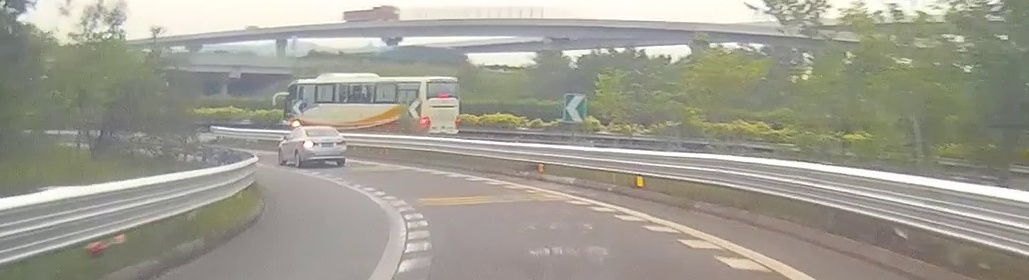L_light: (421, 118, 428, 128), (303, 141, 316, 146)
R_light: (337, 140, 346, 145), (455, 117, 459, 127)
T_light: (439, 95, 448, 97), (317, 129, 324, 130)
day-brake: (420, 77, 460, 137)
day-left: (303, 127, 347, 168)
